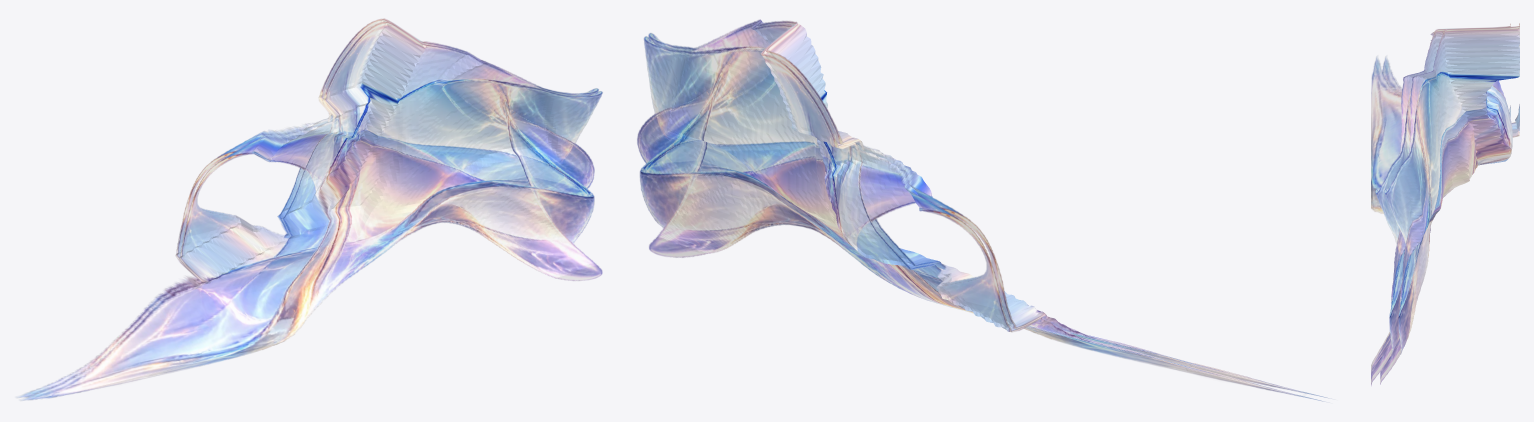
Rendered from footer-glass-mesh.glb.
The picture shows the model from 3 angles, left to right: view 1: azimuth 30°, elevation 25°; view 2: azimuth 150°, elevation 25°; view 3: azimuth 270°, elevation 25°; orthographic projection. The views are drawn at different scales.
Visible parts, largest first — view 1: Lumen image-derived glass relief; view 2: Lumen image-derived glass relief; view 3: Lumen image-derived glass relief.
Boxes of the visible parts, left/top/right/bottom form: Lumen image-derived glass relief: left=16, top=18, right=602, bottom=400; Lumen image-derived glass relief: left=637, top=19, right=1331, bottom=401; Lumen image-derived glass relief: left=1371, top=23, right=1519, bottom=385.
Size of the model in its own units: 4.8 by 2 by 0.905.
1 material, 1 textured.
